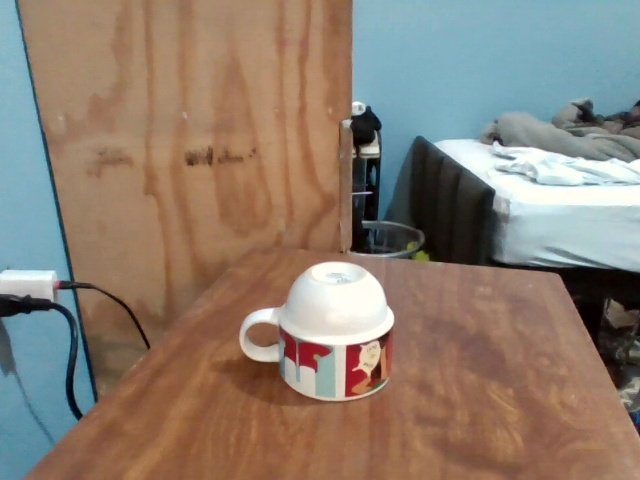taza: (238, 259, 394, 401)
